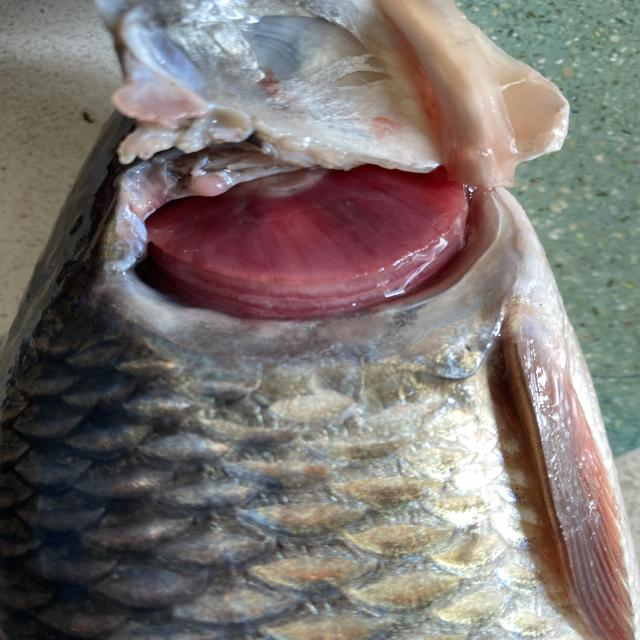Fresh: (76, 133, 515, 339)
